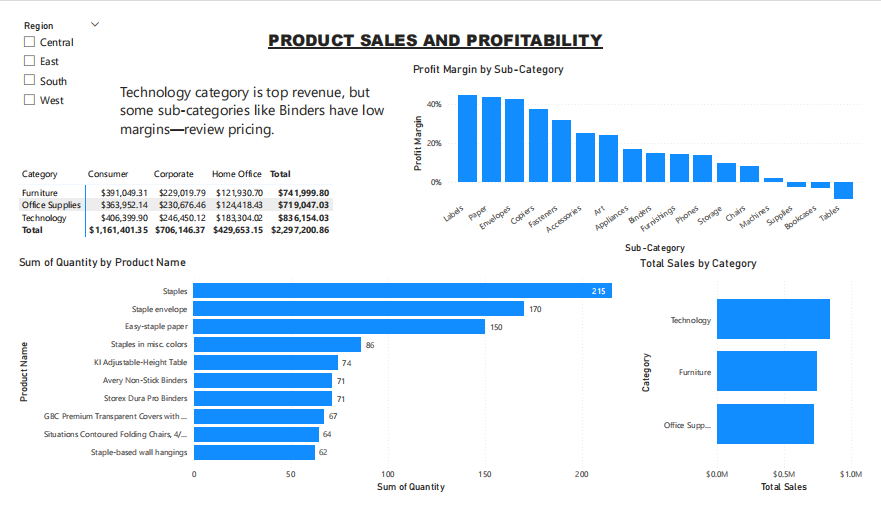

The page's visual inventory and layout, read from the dashboard file:
{"tool":"powerbi","page":{"name":"Product & Category Performance","canvas":[1280,720],"ordinal":3},"visuals":[{"type":"clusteredBarChart","fields":{"Category":["Products.Category"],"Y":["Orders.Total Sales"]},"box":[936.1,360.7,344.3,359],"z":0},{"type":"clusteredBarChart","fields":{"Category":["Products.Product Name"],"Y":["Sum(Orders.Quantity)"]},"box":[0,359,937.7,360.7],"z":1000},{"type":"clusteredColumnChart","fields":{"Category":["Products.Sub-Category"],"Y":["Orders.Profit Margin"]},"box":[593.4,68.9,686.9,291.8],"z":2000},{"type":"pivotTable","fields":{"Rows":["Products.Category"],"Columns":["Customers.Customer Segment"],"Values":["Orders.Total Sales"]},"box":[0,221.3,501.6,137.7],"z":3000},{"type":"textbox","box":[152.5,91.8,441,123],"z":4000},{"type":"slicer","fields":{"Values":["States.Region"]},"box":[0,0,139.3,182],"z":4001},{"type":"textbox","box":[326.2,13.1,611.5,55.7],"z":4002}]}

Visuals, with their boxes in screenshot pixels (x1, y1, x2, y2), scaled from the page's 1280x720 canvas onto the 881x510 screenshot:
clusteredBarChart - Products.Category x Orders.Total Sales: (left=644, top=255, right=880, bottom=509)
clusteredBarChart - Products.Product Name x Sum(Orders.Quantity): (left=0, top=254, right=645, bottom=509)
clusteredColumnChart - Products.Sub-Category x Orders.Profit Margin: (left=408, top=49, right=880, bottom=255)
pivotTable - Products.Category x Customers.Customer Segment: (left=0, top=157, right=345, bottom=254)
textbox: (left=105, top=65, right=408, bottom=152)
slicer - States.Region: (left=0, top=0, right=96, bottom=129)
textbox: (left=225, top=9, right=645, bottom=49)
